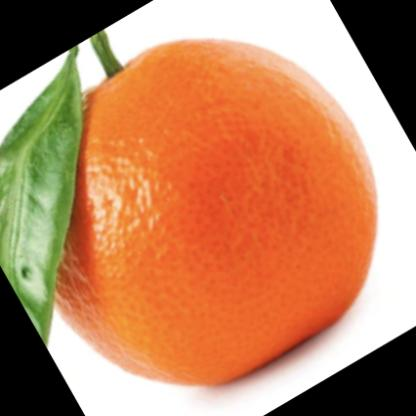fresh: (34, 40, 376, 385)
